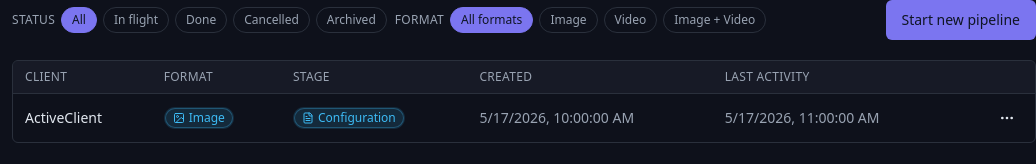
Test case: PipelineList › fetches the archived set on demand and lists those rows under the Archived filter
Expected: the link "ActiveClient" is shown, x1=25 y1=108 x2=102 y2=127
Expected: the text "ArchivedClient" is not shown
Click the button "Archived". click: point(351, 20)
box: x1=316 y1=7 x2=387 y2=33
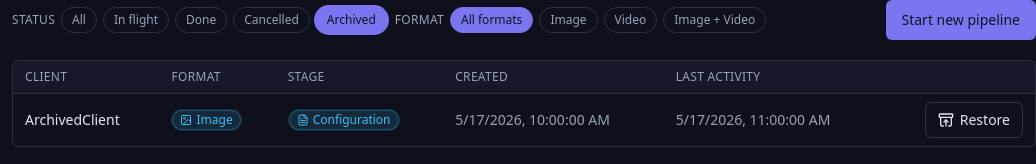
Expected: the link "ArchivedClient" is shown, x1=25 y1=110 x2=120 y2=129
Expected: the link "ActiveClient" is gone
Expected: the button with aria-label "restore pipeline" is shown, x1=925 y1=102 x2=1023 y2=138
